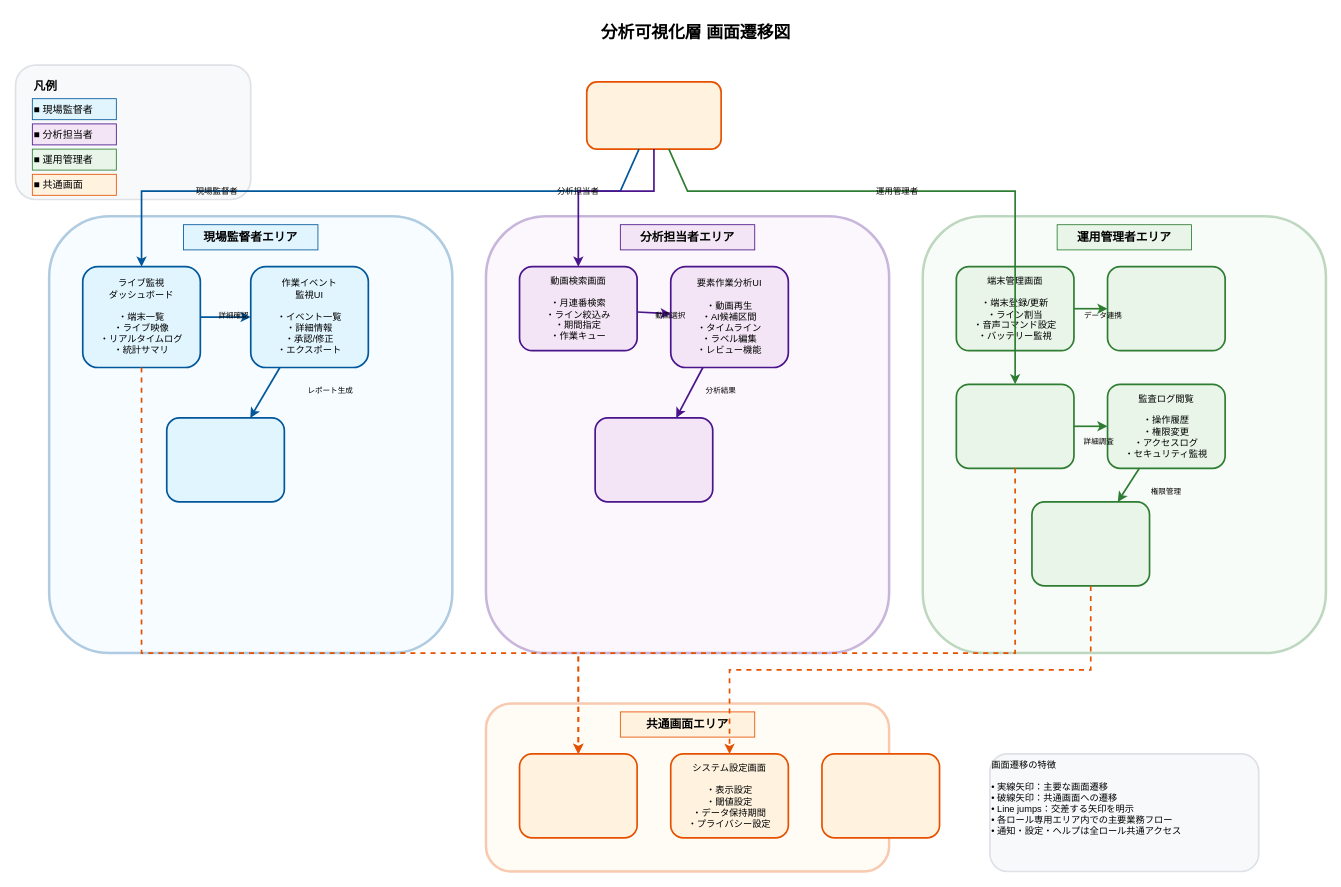
The diagram is 1341 pixels wide and 887 high, and some of its shapes have lost their labels. The shapes that lost their labels are listed below. From the top down, each one's centre as x and y in pixels, then its label:
point (653, 115): ログイン画面 (認証・ロール判定)
point (1166, 308): 順序データ管理 ・CSV取り込み ・データ検証 ・整合性チェック ・エラー管理
point (1014, 426): 運用管理 ダッシュボード ・システム監視 ・リソース状況 ・アラート管理 ・稼働率
point (225, 459): 現場監督者向け レポート画面 ・作業実績 ・異常統計 ・チーム分析
point (653, 459): 分析レポート画面 ・要素作業時間 ・ばらつき分析 ・ボトルネック ・学習データ状況
point (1090, 543): ユーザー・権限管理 ・ロール設定 ・アクセス制御 ・承認ワークフロー
point (578, 795): 通知・アラート画面 ・リアルタイム通知 ・アラート履歴 ・設定管理
point (880, 795): ヘルプ・マニュアル ・操作ガイド ・FAQ ・チュートリアル ・サポート連絡
